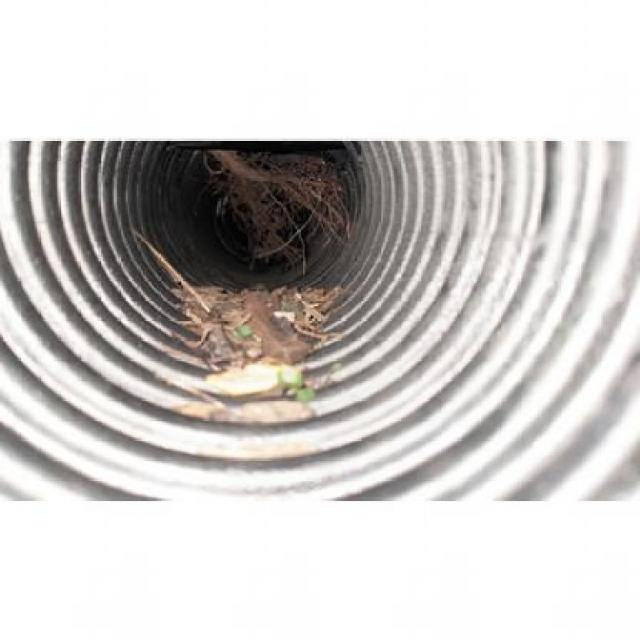dirt: (182, 284, 311, 429)
root: (206, 153, 343, 240)
